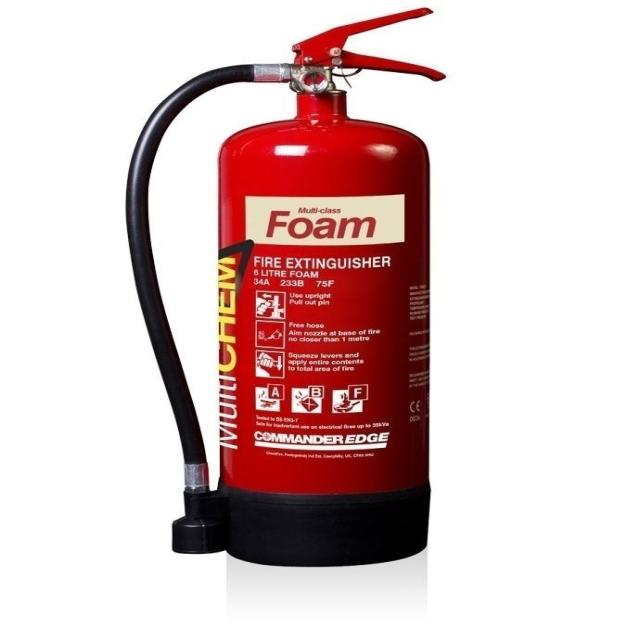fire_extinguisher: (120, 5, 449, 569)
